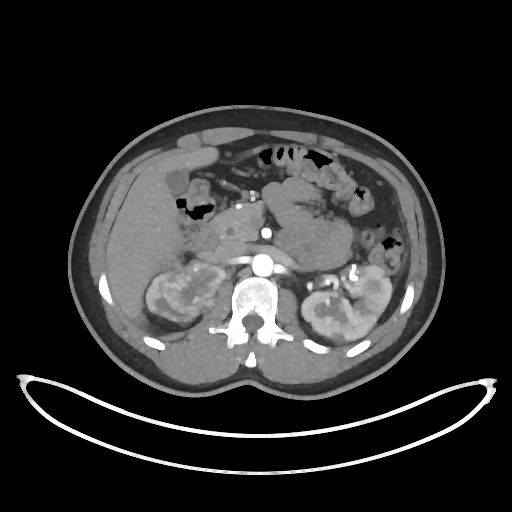Lesion: (156, 256, 227, 320)
